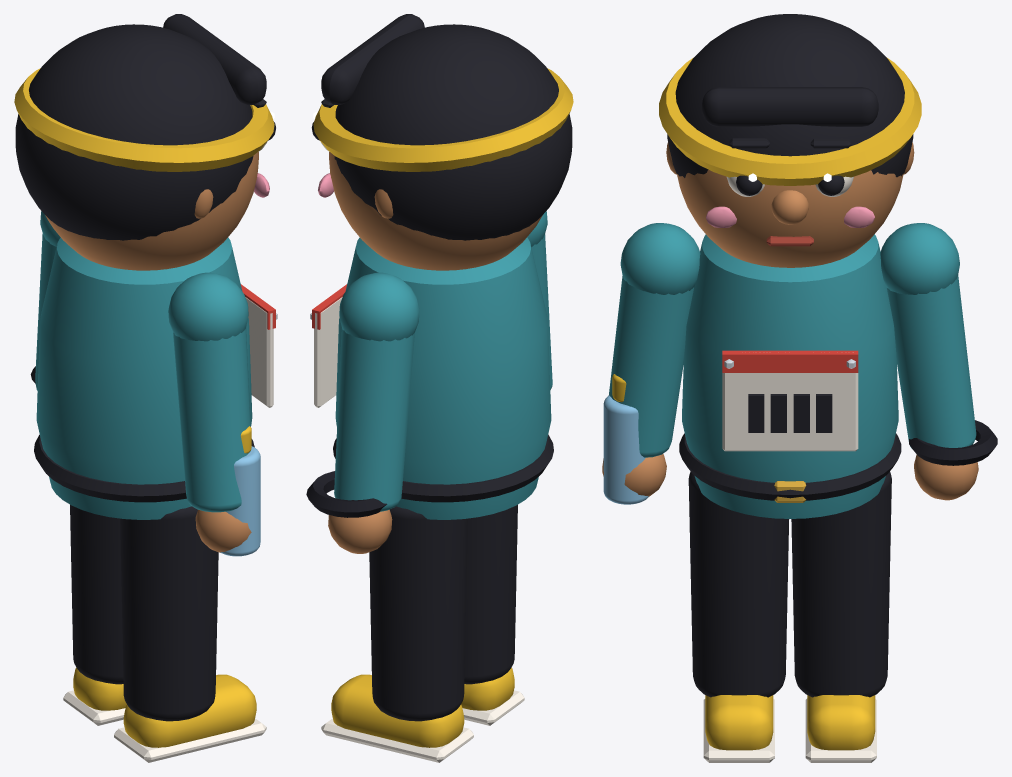
Rendered from marathon_runner.glb.
The picture shows the model from 3 angles, left to right: view 1: azimuth 30°, elevation 25°; view 2: azimuth 150°, elevation 25°; view 3: azimuth 270°, elevation 25°; orthographic projection.
Visible parts, largest first — view 1: marathon_runner; view 2: marathon_runner; view 3: marathon_runner.
Boxes of the visible parts, bbox=[...] form: marathon_runner: bbox=[14, 14, 277, 762]; marathon_runner: bbox=[306, 14, 573, 762]; marathon_runner: bbox=[602, 14, 997, 762].
Size of the model in its own units: 0.47 by 1.38 by 0.7102.
1 material, 1 textured.
